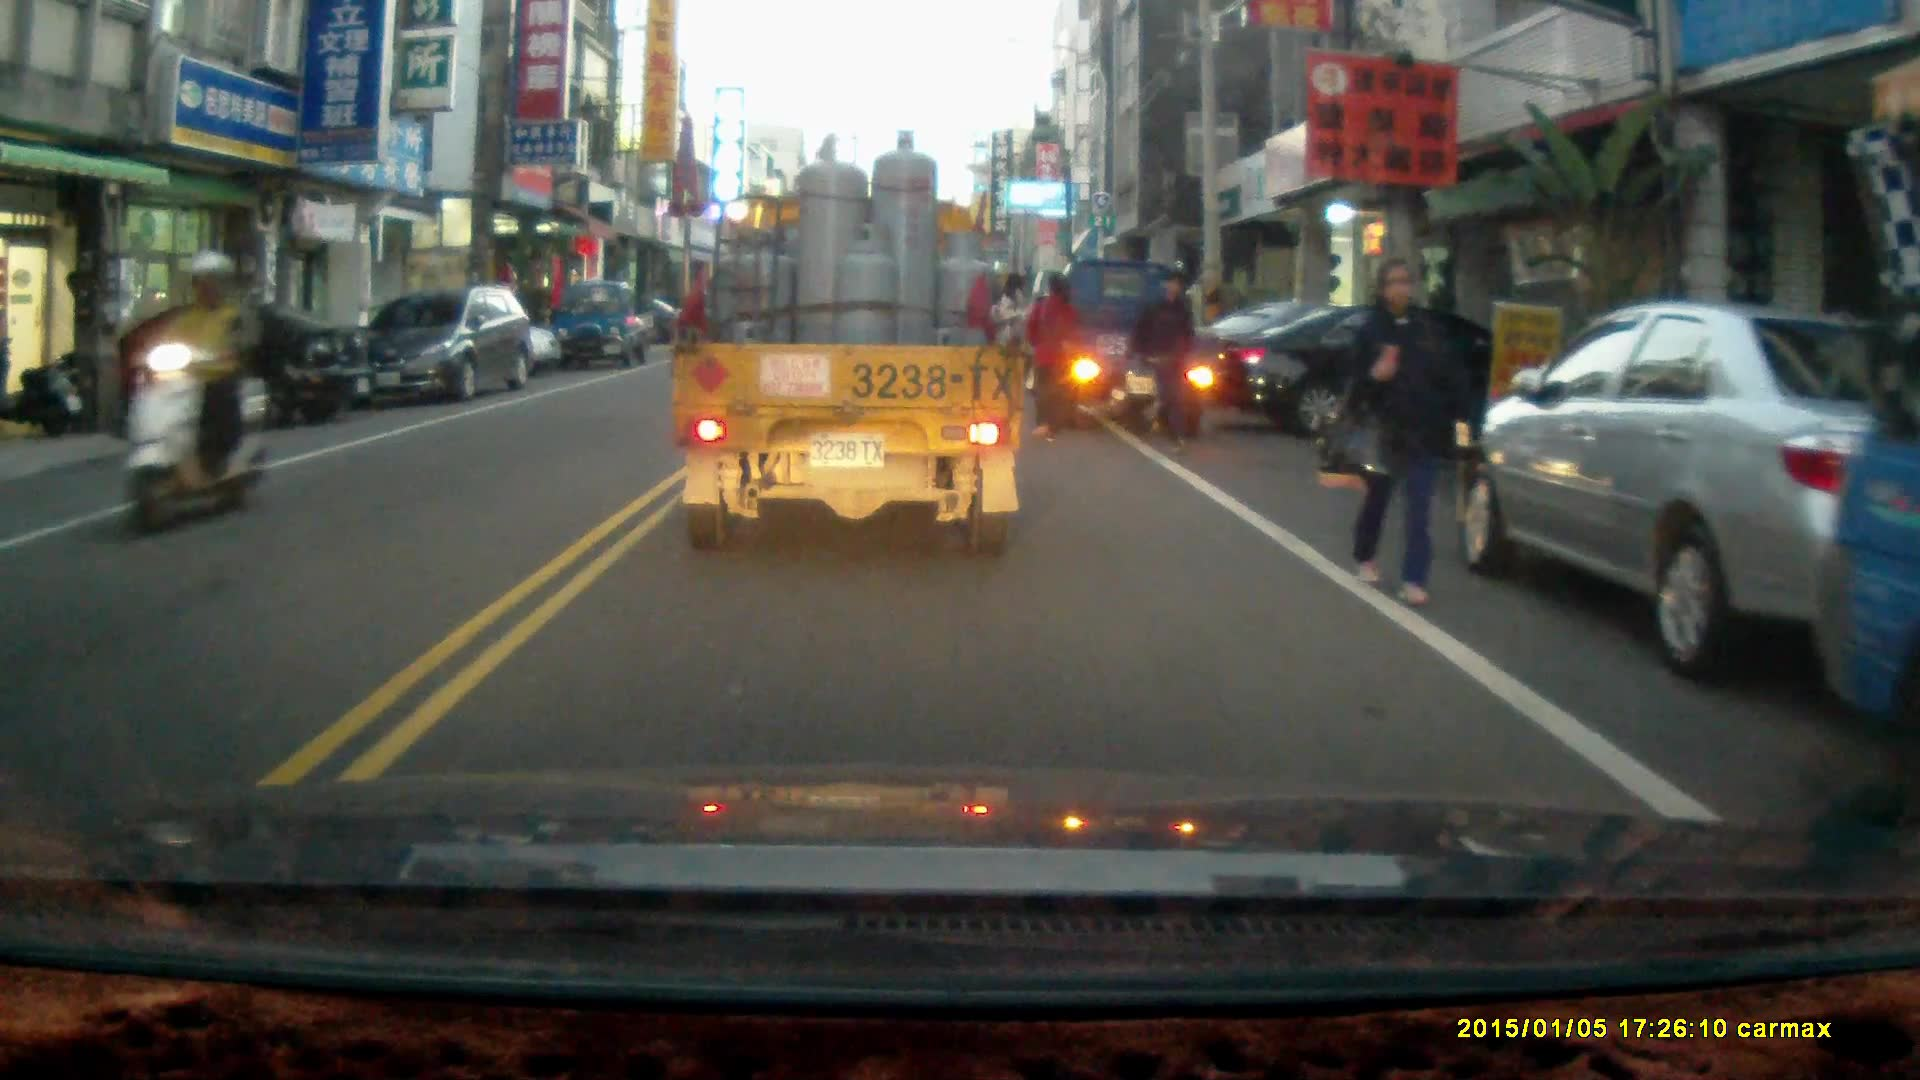pedestrian: (1339, 255, 1460, 605), (1127, 269, 1193, 455), (1020, 273, 1079, 443)
rider: (119, 248, 269, 538)
vehicle: (1452, 303, 1920, 680), (671, 128, 1032, 563), (1200, 298, 1534, 461), (19, 299, 373, 433), (1043, 260, 1233, 440), (355, 286, 538, 409), (553, 279, 657, 372)
